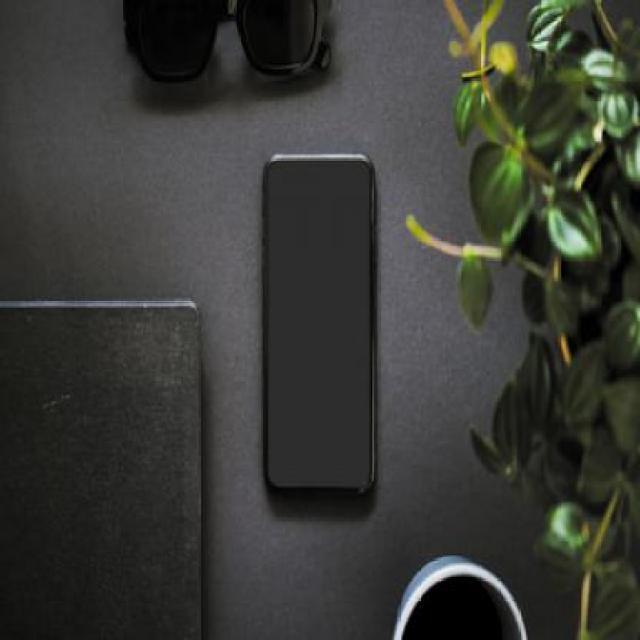phone: (262, 148, 379, 504)
